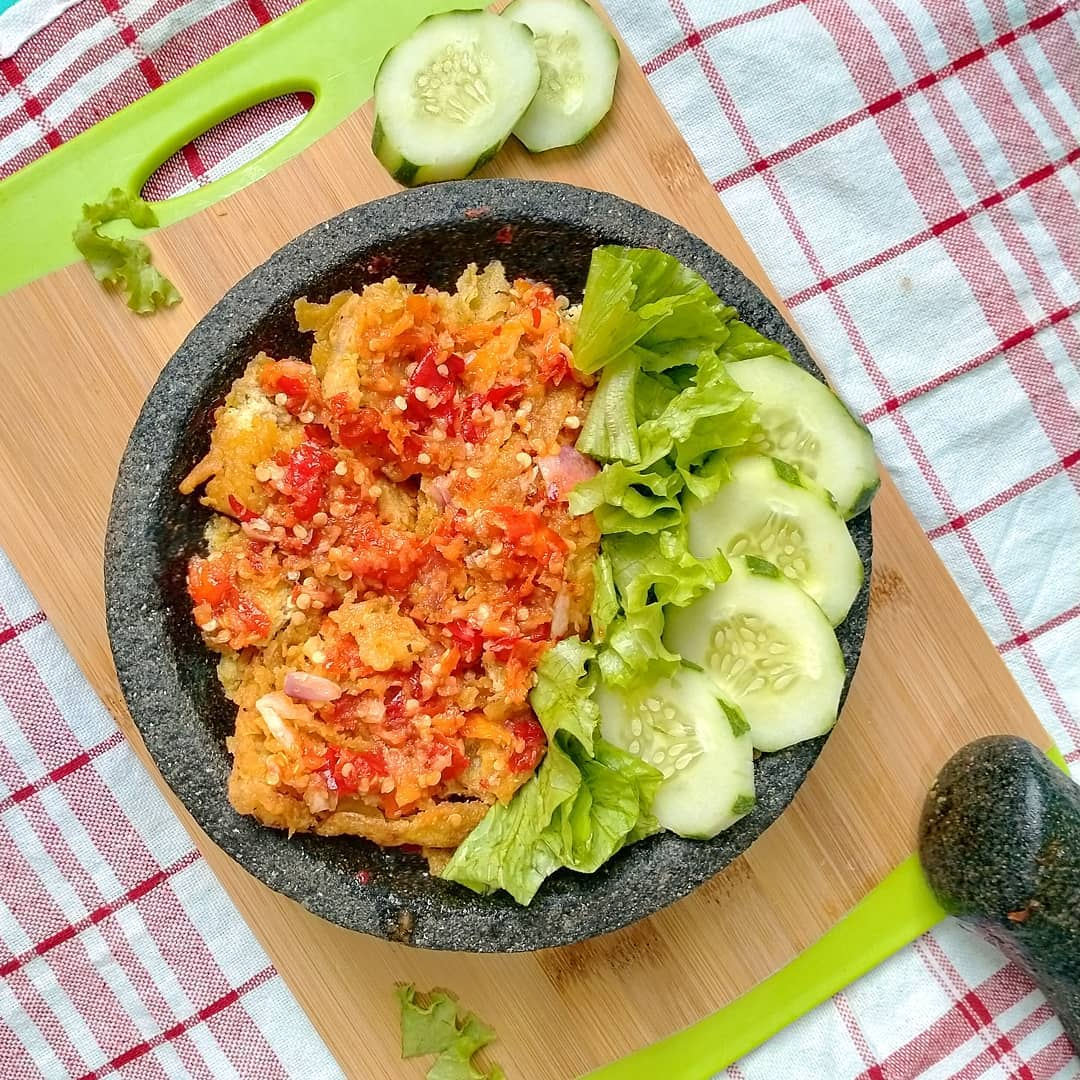ayam_geprek: (202, 289, 583, 859)
